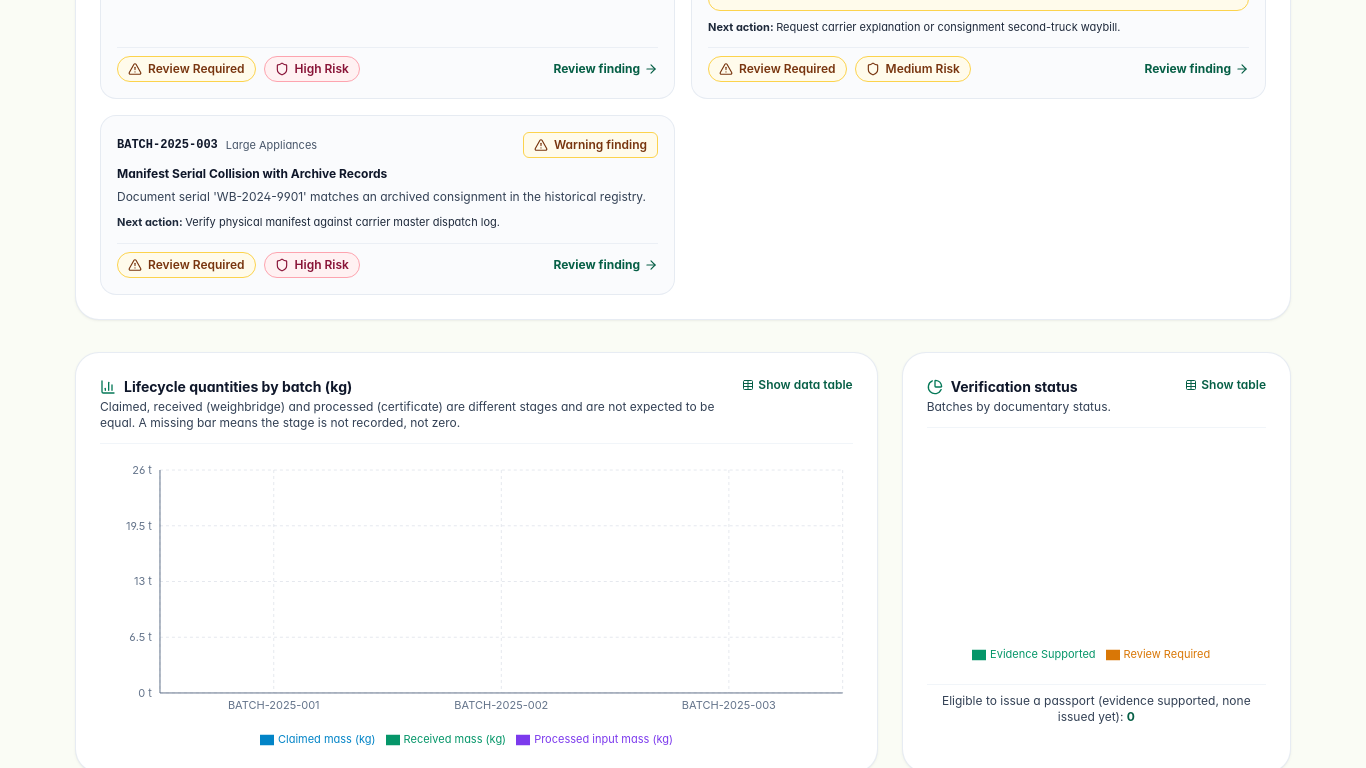
Test: Dashboard › offers a table alternative for each chart
(page scrolled)
Click the button "Show data table" at (797, 385), box [742,377,853,393]
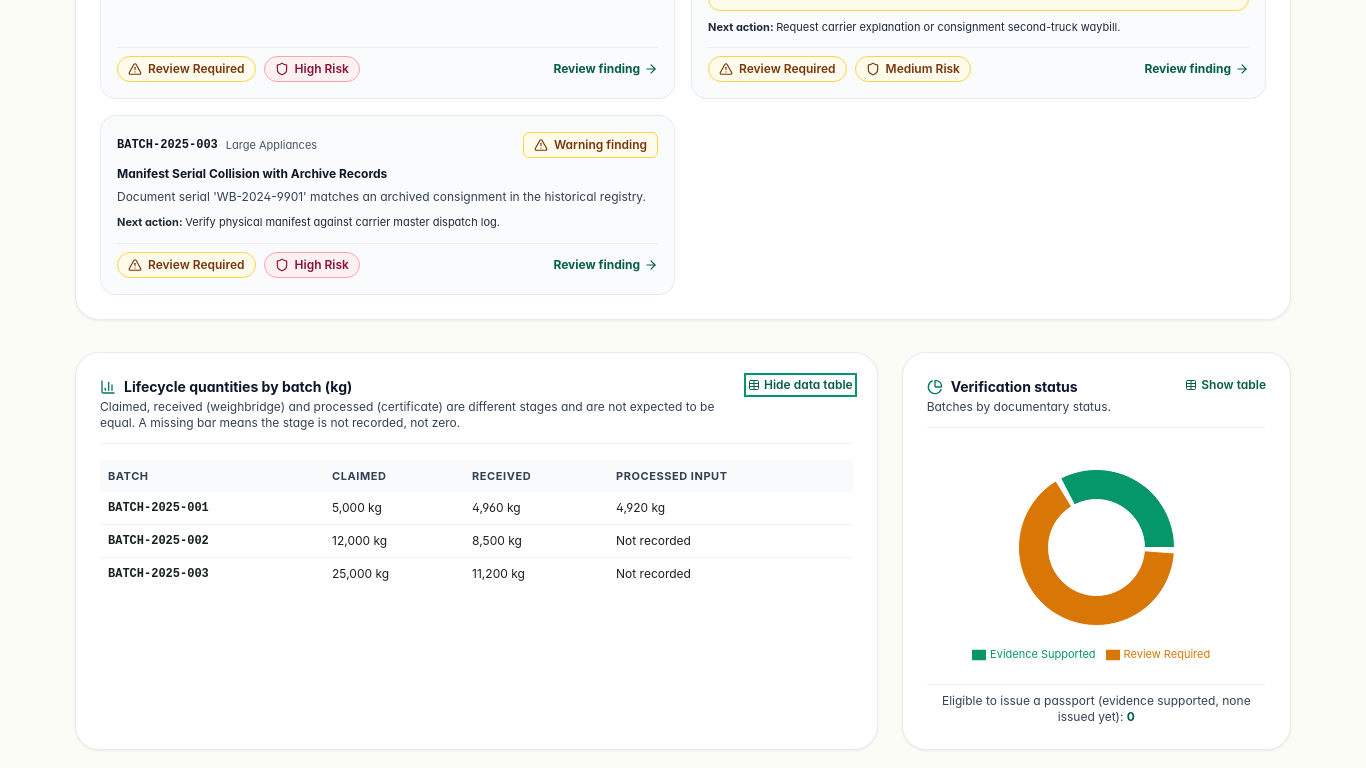
Expected: the 1st text "Not recorded" is shown, [608,524,853,557]
Click the button "Show table" at (1226, 385), box [1185,377,1266,393]
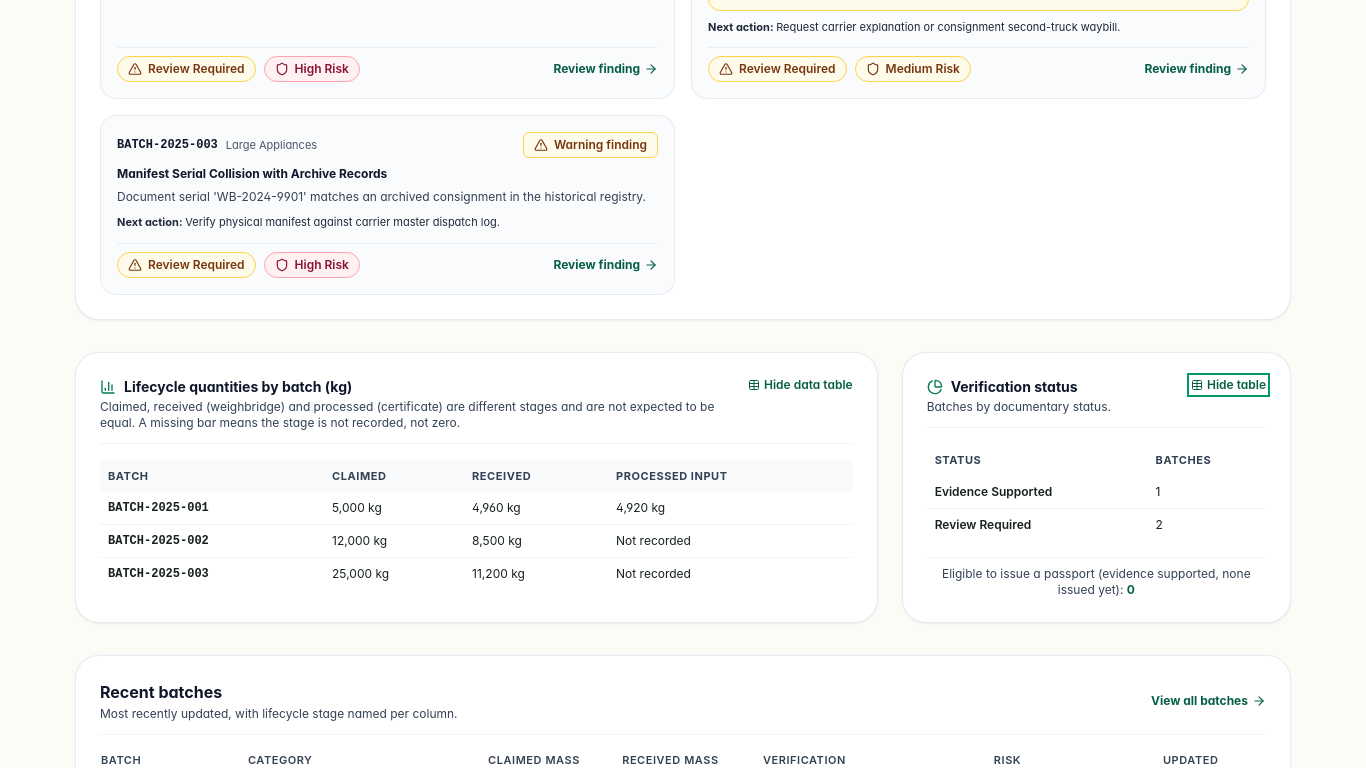
Expected: the table named "Number of batches per verification status" is shown, [927,444,1266,541]
